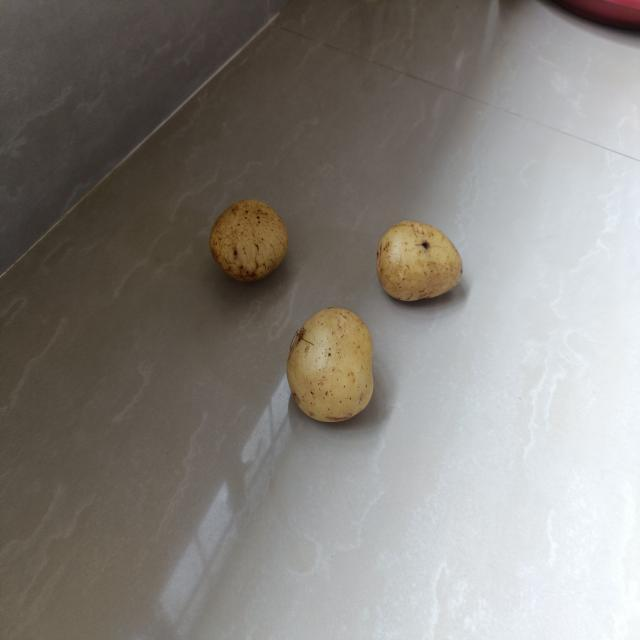potato: (285, 302, 377, 425), (374, 216, 466, 306), (206, 193, 293, 283)
